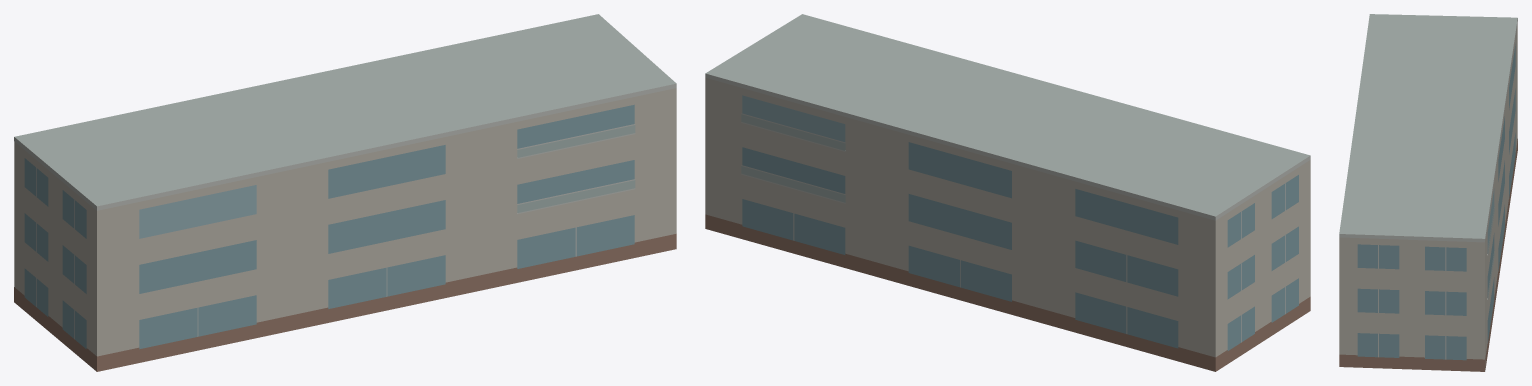
File: survey-upis-32518874.glb
The picture shows the model from 3 angles, left to right: view 1: azimuth 30°, elevation 25°; view 2: azimuth 150°, elevation 25°; view 3: azimuth 270°, elevation 25°; orthographic projection. The views are drawn at different scales.
Visible parts, largest first — view 1: survey-upis-32518874.tmp; view 2: survey-upis-32518874.tmp; view 3: survey-upis-32518874.tmp.
Part boxes in pixels (x1,y1,x2,y2): survey-upis-32518874.tmp: (14,14,676,371); survey-upis-32518874.tmp: (705,14,1310,371); survey-upis-32518874.tmp: (1339,14,1517,371).
Bounding box in the file's own units: 33.18 × 9.15 × 11.14.
